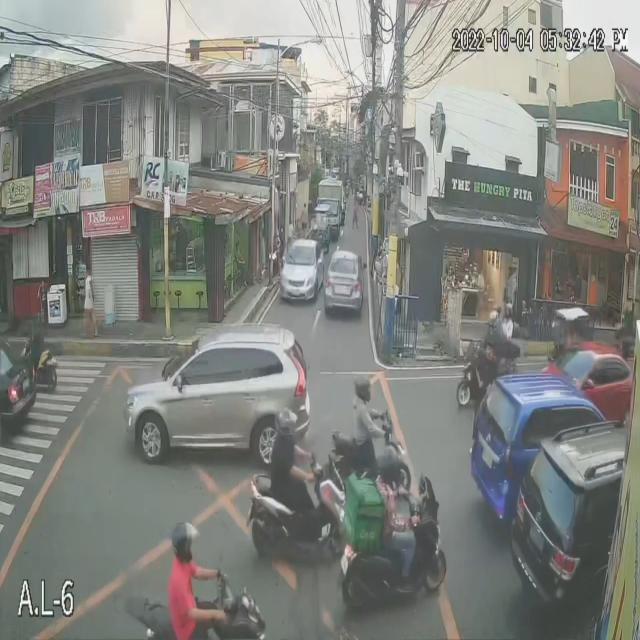Full-Faced: (371, 434, 406, 482), (352, 366, 374, 401), (484, 306, 498, 331), (499, 304, 512, 324)
Half-Faced: (170, 513, 210, 564), (269, 405, 299, 439)
